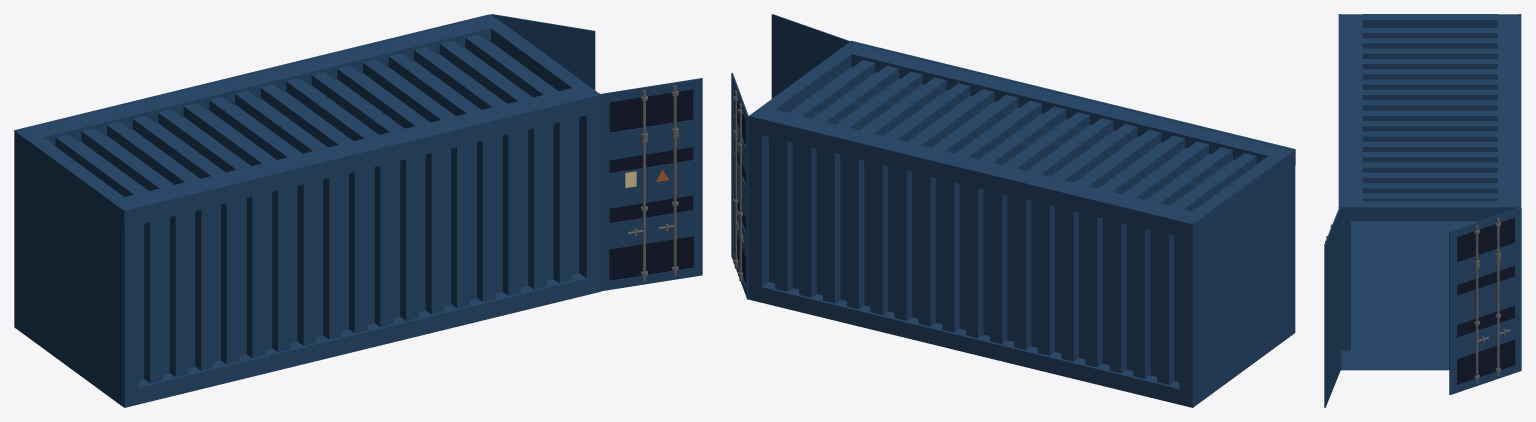
File: Building_CargoContainerOpened_Blue.fbx
The picture shows the model from 3 angles, left to right: view 1: azimuth 30°, elevation 25°; view 2: azimuth 150°, elevation 25°; view 3: azimuth 270°, elevation 25°; orthographic projection. The views are drawn at different scales.
Visible parts, largest first — view 1: Cube, Cylinder.002, Cylinder.003; view 2: Cube, Cylinder.002, Cylinder.003; view 3: Cube, Cylinder.003, Cylinder.002.
Boxes of the visible parts, left/top/right/bottom form: Cube: left=14, top=14, right=601, bottom=407; Cylinder.002: left=601, top=78, right=702, bottom=291; Cylinder.003: left=491, top=14, right=595, bottom=89; Cube: left=748, top=40, right=1295, bottom=407; Cylinder.002: left=771, top=14, right=849, bottom=98; Cylinder.003: left=731, top=73, right=748, bottom=299; Cube: left=1338, top=14, right=1521, bottom=370; Cylinder.003: left=1449, top=207, right=1521, bottom=394; Cylinder.002: left=1324, top=207, right=1340, bottom=407.
Bounding box in the file's own units: 616 × 204 × 223.
